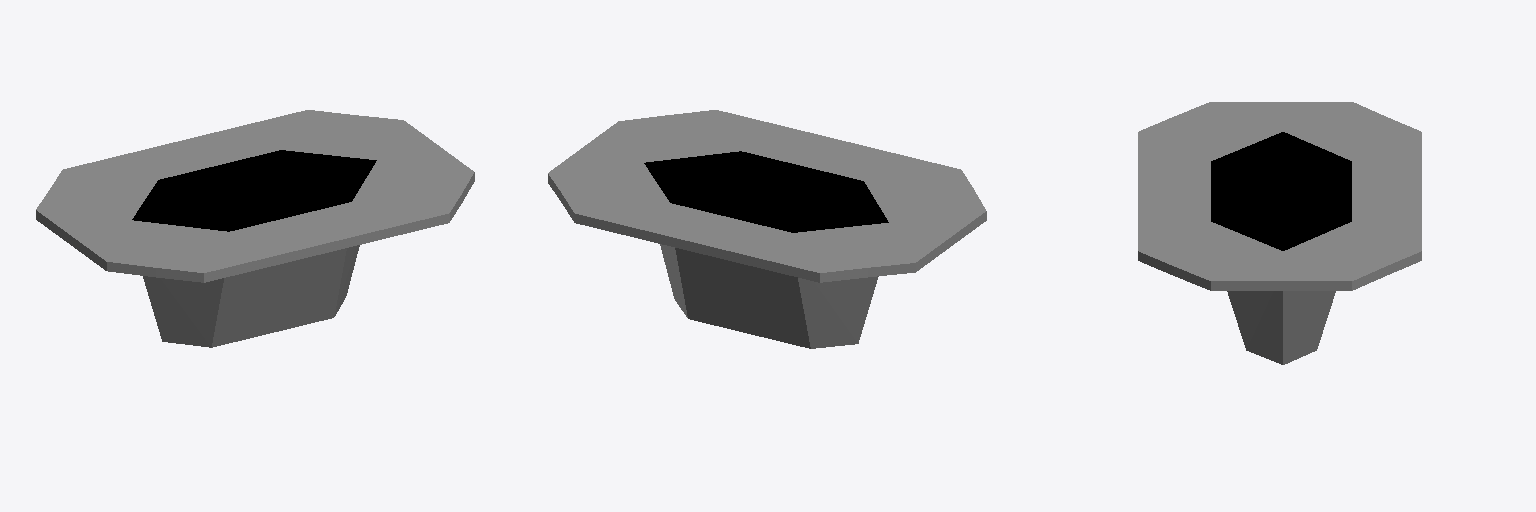
File: table.obj
The picture shows the model from 3 angles: view 1: azimuth 30°, elevation 25°; view 2: azimuth 150°, elevation 25°; view 3: azimuth 270°, elevation 25°; orthographic projection.
Visible parts, largest first — view 1: Cube; view 2: Cube; view 3: Cube.
Boxes of the visible parts, x1=… form: Cube: x1=36, y1=110, x2=474, y2=347; Cube: x1=548, y1=110, x2=986, y2=348; Cube: x1=1138, y1=102, x2=1421, y2=364.
Bounding box in the file's own units: 3 × 1 × 2.